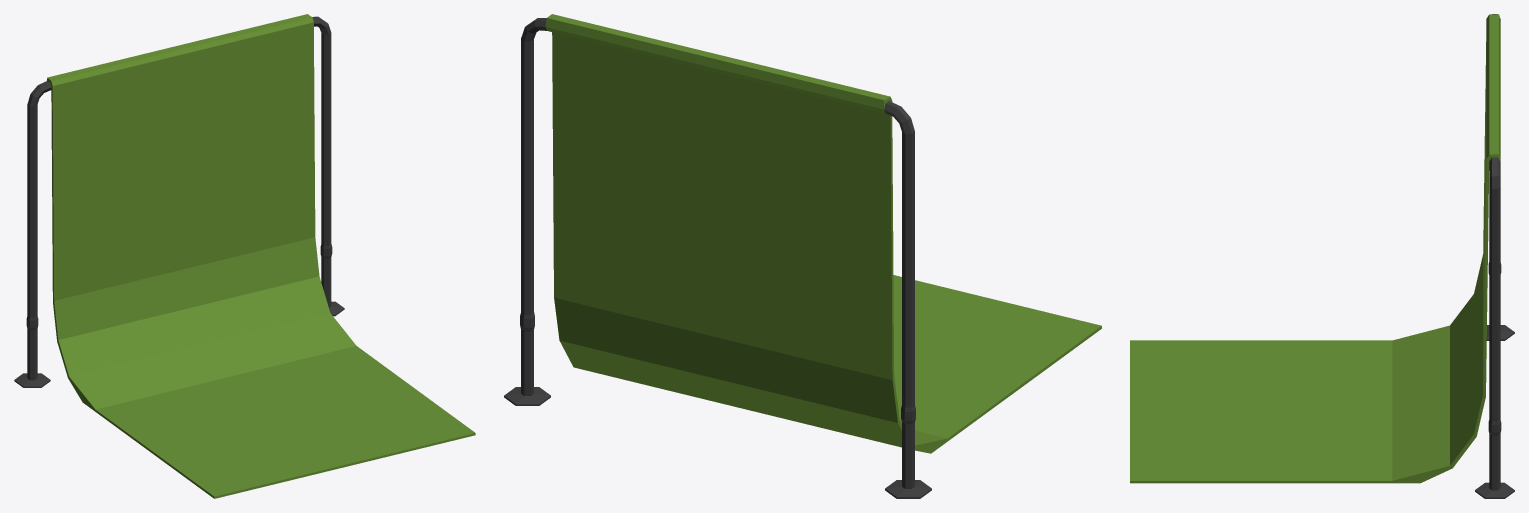
The model's file is GreenScreenV1.fbx.
3 renders of one model, left to right at view 1: azimuth 30°, elevation 25°; view 2: azimuth 150°, elevation 25°; view 3: azimuth 270°, elevation 25°, orthographic. The views are drawn at different scales.
Visible parts, largest first — view 1: GreenScreenV1; view 2: GreenScreenV1; view 3: GreenScreenV1.
Part boxes in pixels (left/top/right/bottom): GreenScreenV1: left=14, top=14, right=475, bottom=498; GreenScreenV1: left=504, top=14, right=1101, bottom=498; GreenScreenV1: left=1130, top=14, right=1514, bottom=498.
Size of the model in its own units: 218 by 194 by 206.
